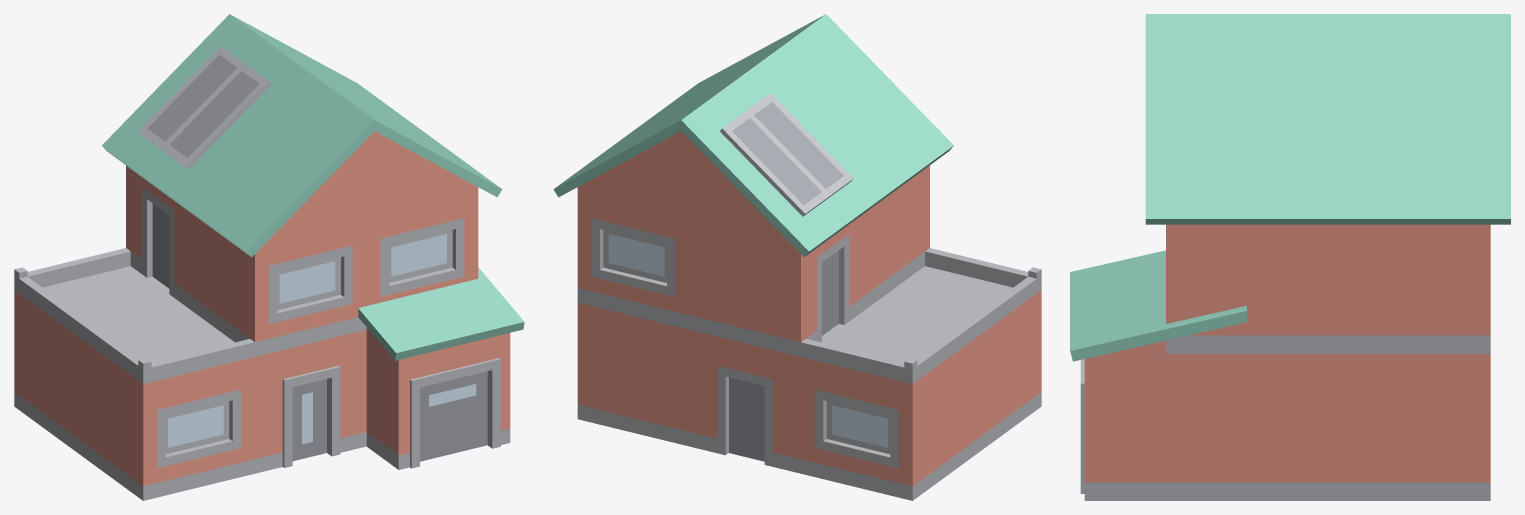
The model's file is house11.fbx.
3 renders of one model, left to right at view 1: azimuth 30°, elevation 25°; view 2: azimuth 150°, elevation 25°; view 3: azimuth 270°, elevation 25°, orthographic. The views are drawn at different scales.
Visible parts, largest first — view 1: house_type11; view 2: house_type11; view 3: house_type11.
Boxes of the visible parts, box(x1,y1,x2,y2) form: house_type11: box(14, 14, 524, 500); house_type11: box(553, 14, 1041, 500); house_type11: box(1070, 14, 1510, 500).
Bounding box in the file's own units: 1258 × 1138 × 1086.
